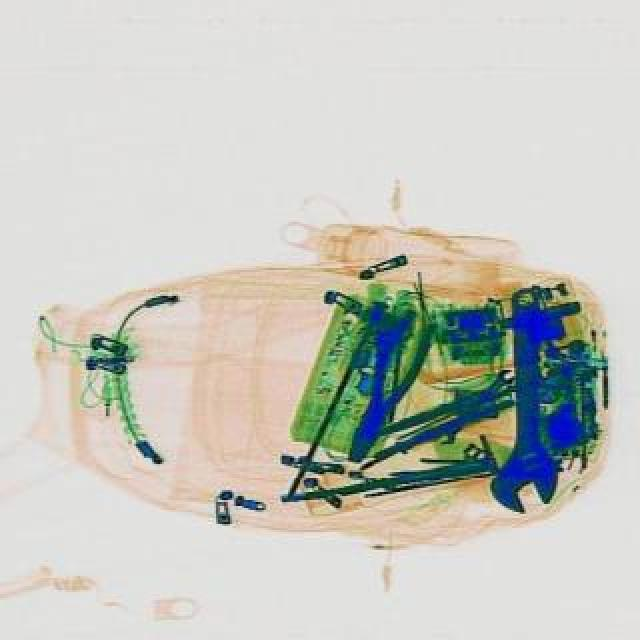scissors: (488, 286, 560, 512), (430, 362, 518, 450)
wrench: (328, 304, 442, 470)
